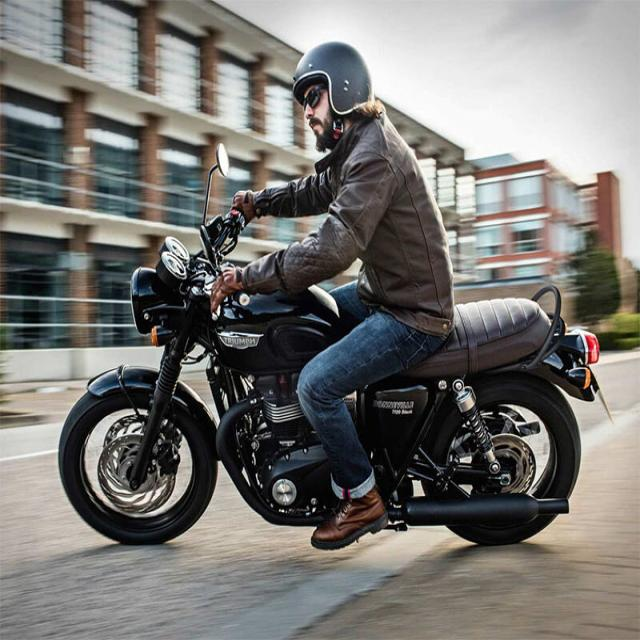Helmet: (284, 35, 382, 159)
